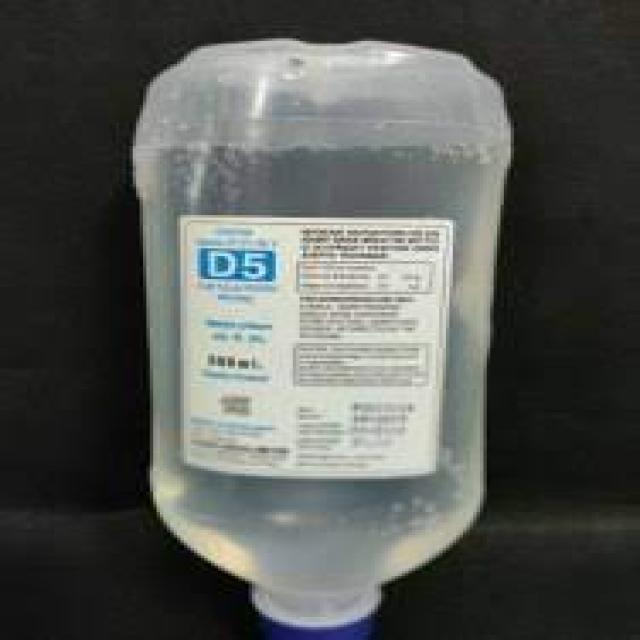B3: (123, 30, 509, 640)
